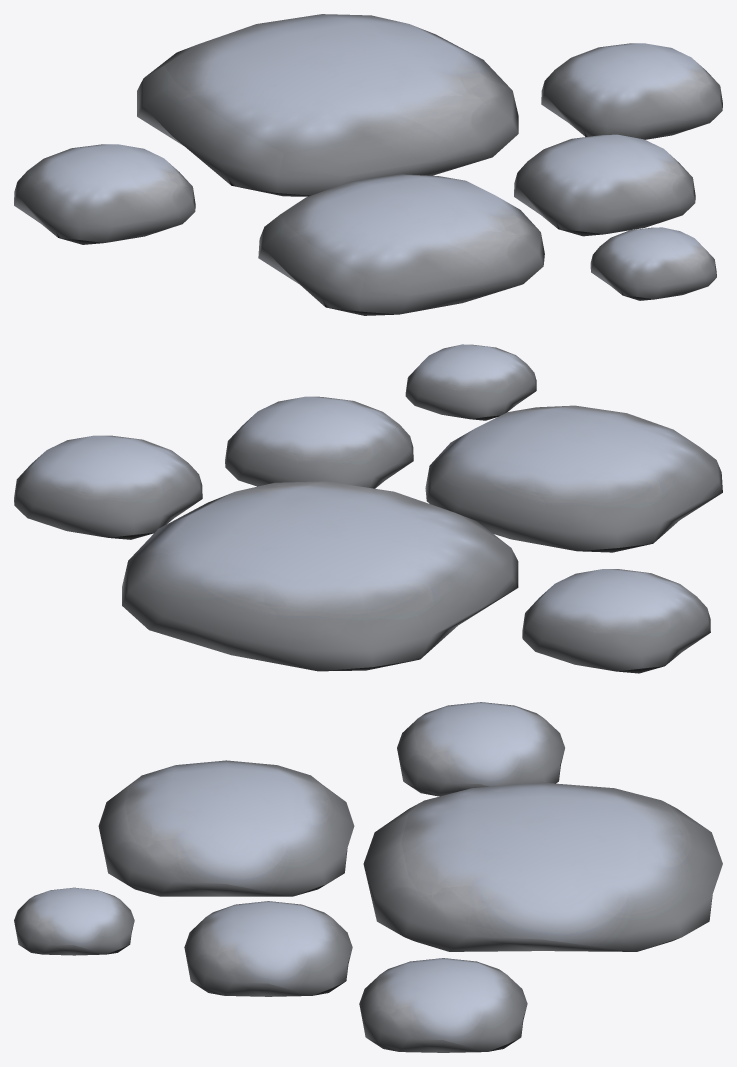
File: rockpathBIG.glb
The picture shows the model from 3 angles, top to bottom: view 1: azimuth 30°, elevation 25°; view 2: azimuth 150°, elevation 25°; view 3: azimuth 270°, elevation 25°; orthographic projection. The views are drawn at different scales.
Parts seen in each view (by area): view 1: Cube.014; view 2: Cube.014; view 3: Cube.014.
Part boxes in pixels (x1=…): Cube.014: x1=14, y1=14, x2=722, y2=315; Cube.014: x1=14, y1=344, x2=722, y2=673; Cube.014: x1=14, y1=702, x2=722, y2=1052.
Bounding box in the file's own units: 2.7 × 0.3078 × 2.54.
Materials: 1 (1 with a texture image).
